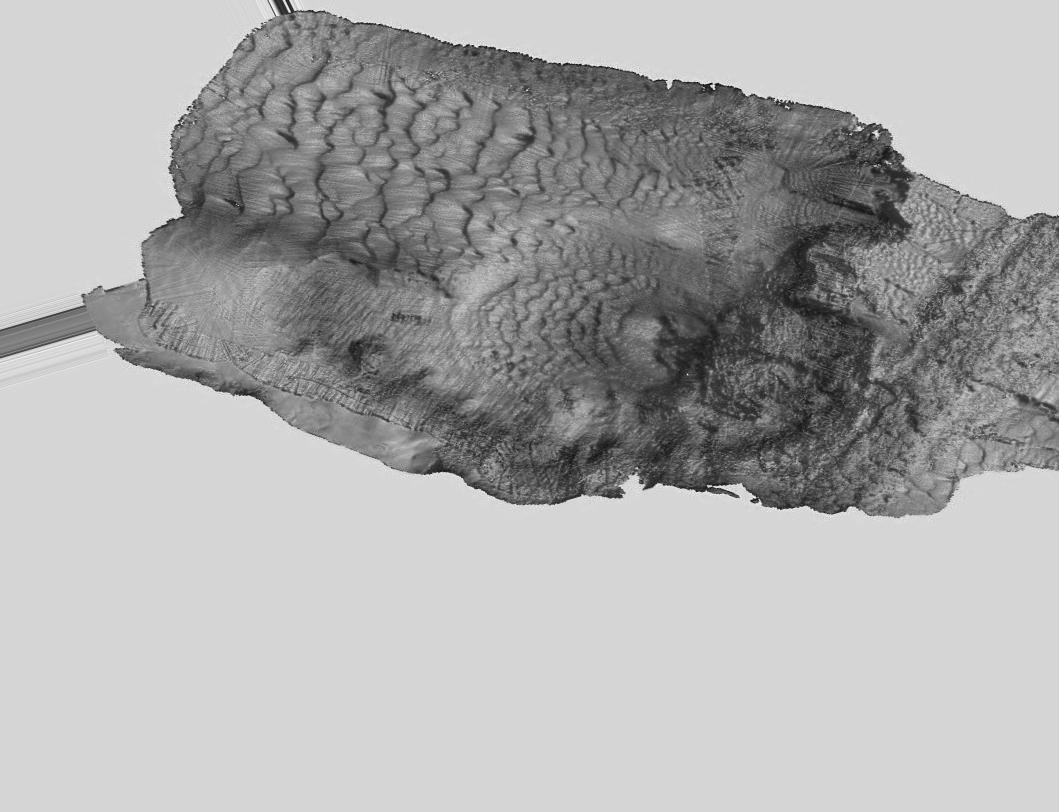Dune: (220, 62, 609, 262), (434, 254, 601, 372)
Scarp: (189, 360, 835, 538)
Scour pit: (606, 295, 702, 401)
Submerged dike: (934, 191, 1057, 405), (831, 371, 971, 538)
